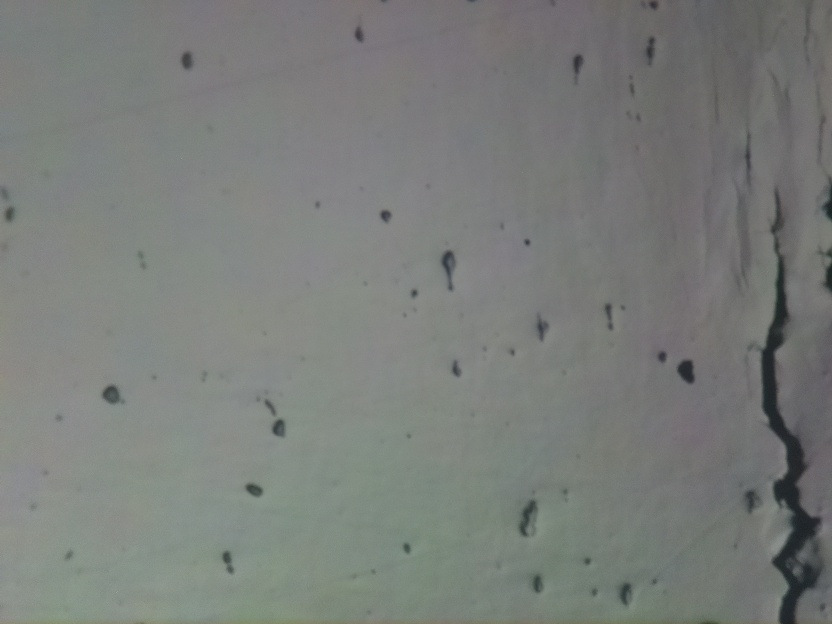crack: (757, 191, 822, 624), (736, 128, 757, 191)
